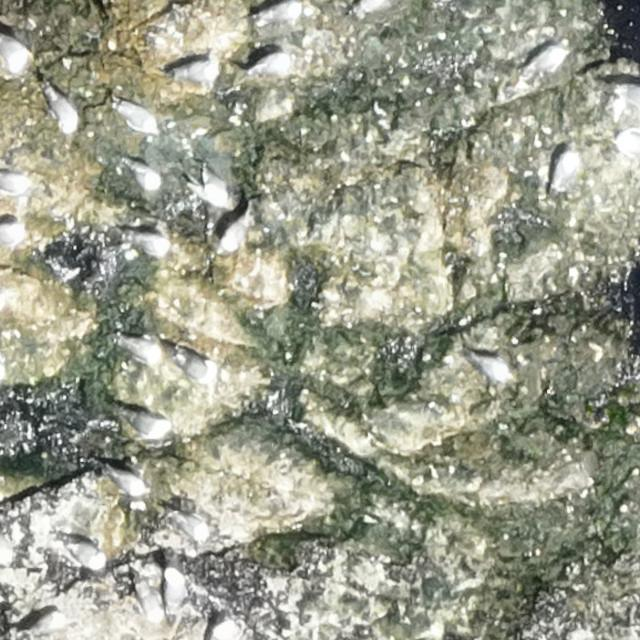umineko: (218, 204, 253, 260), (122, 402, 171, 441), (46, 83, 80, 136), (473, 348, 517, 385), (191, 174, 232, 211), (246, 50, 293, 78), (136, 580, 166, 622), (123, 335, 166, 364), (178, 352, 219, 382), (553, 151, 585, 189), (120, 105, 161, 134), (174, 58, 219, 84), (66, 538, 105, 568), (530, 42, 566, 72), (127, 161, 160, 193), (128, 231, 170, 256), (2, 38, 30, 75), (106, 468, 148, 492), (165, 569, 185, 618), (31, 611, 64, 634), (262, 2, 300, 21), (1, 174, 30, 196), (4, 225, 26, 245)
